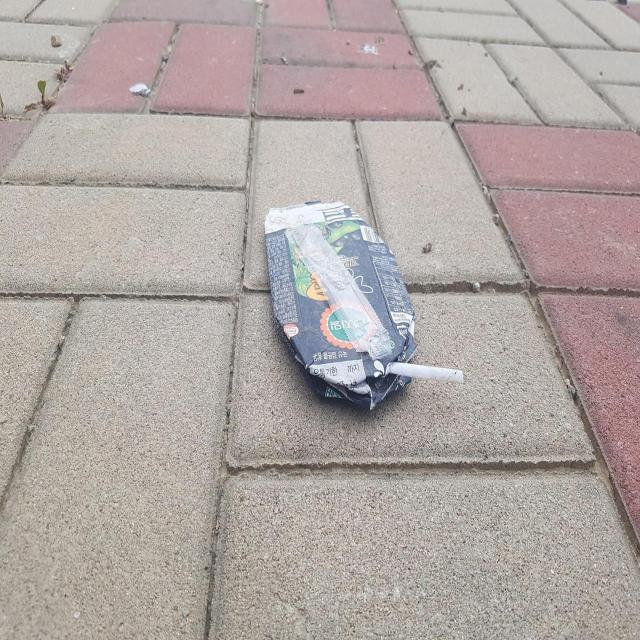paperpack: (265, 201, 416, 409)
